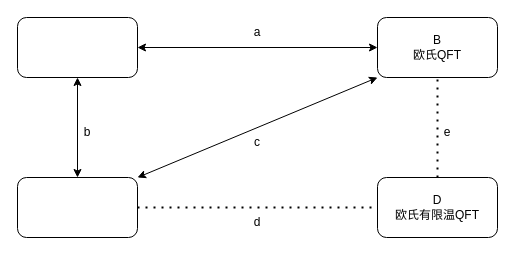
Some shapes in this 515 by 255 pixel diagram are drawn without their labels. Here are the shapes that lost their labels. From the top down, the centre of each, then its label:
point 77,47: A 闵氏QFT
point 77,207: C 闵氏有限温QFT
